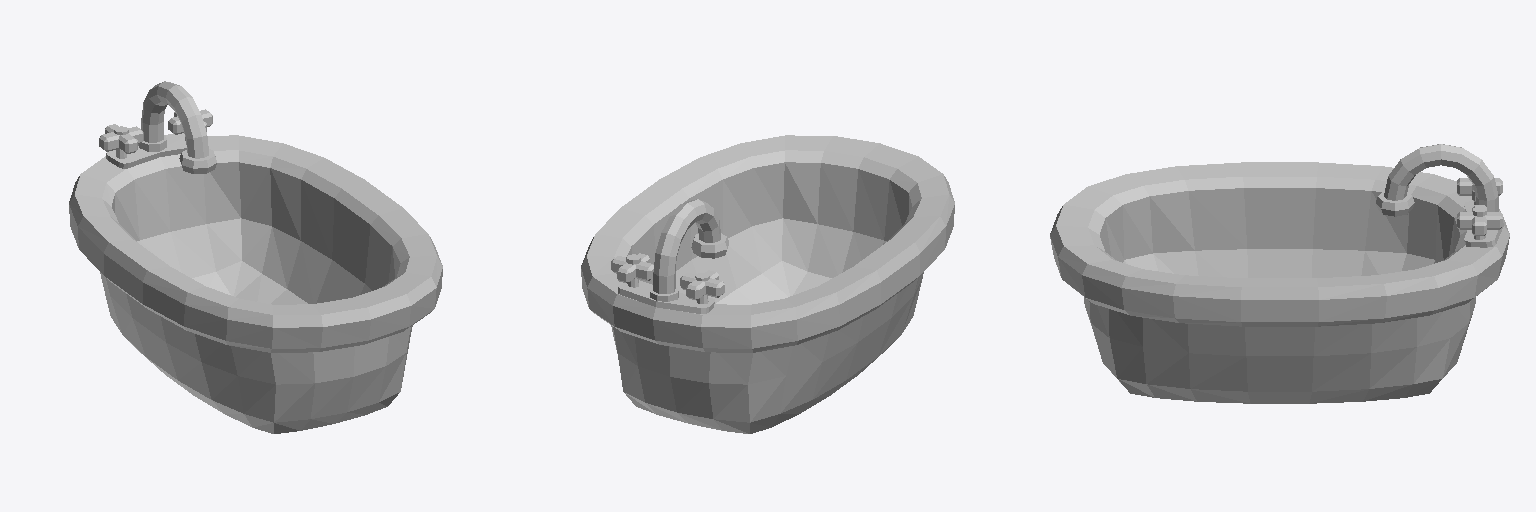
The model's file is bath.obj.
The picture shows the model from 3 angles: view 1: azimuth 30°, elevation 25°; view 2: azimuth 150°, elevation 25°; view 3: azimuth 270°, elevation 25°; orthographic projection.
Visible parts, largest first — view 1: bath; view 2: bath; view 3: bath.
Part boxes in pixels (x1,y1,x2,y2): bath: (69,81,442,433); bath: (581,135,954,433); bath: (1050,144,1509,403).
Bounding box in the file's own units: 2 × 1.61 × 3.